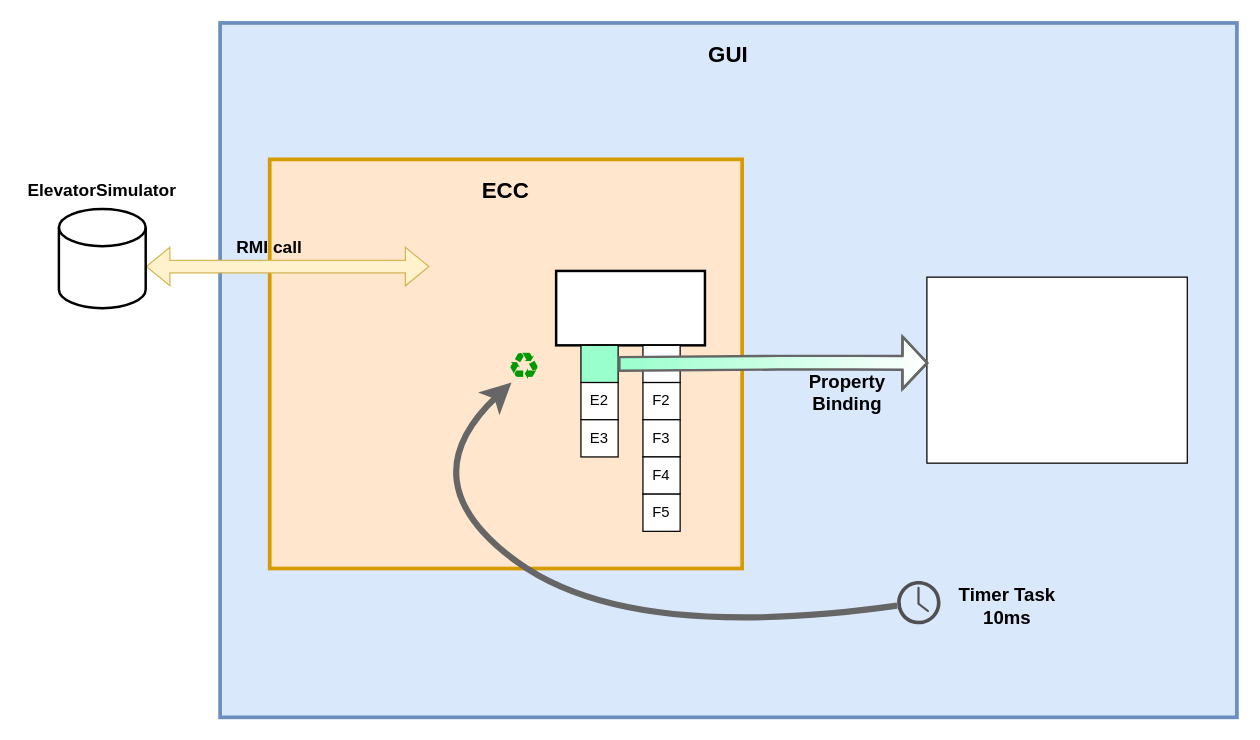
The diagram is 1260 pixels wide and 740 high, and some of its shapes have lost their labels. Each missing label, with the centre of its shape:
E1: [599,363]
ECCDataModel: [630,307]
Elevator 1 Direction: up Passengers: 5 Speed: 100 km/h Weight: 1000 kg: [1056,369]
